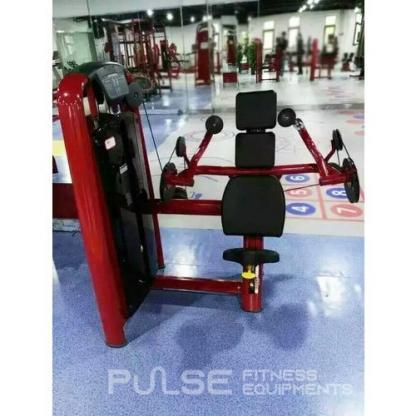seated dip machine: (60, 60, 360, 349)
